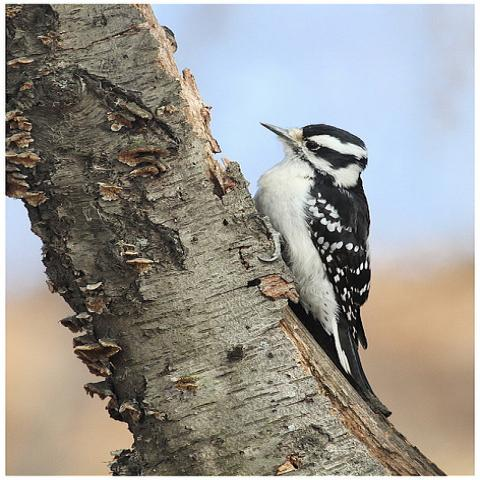bird: (250, 118, 387, 402)
